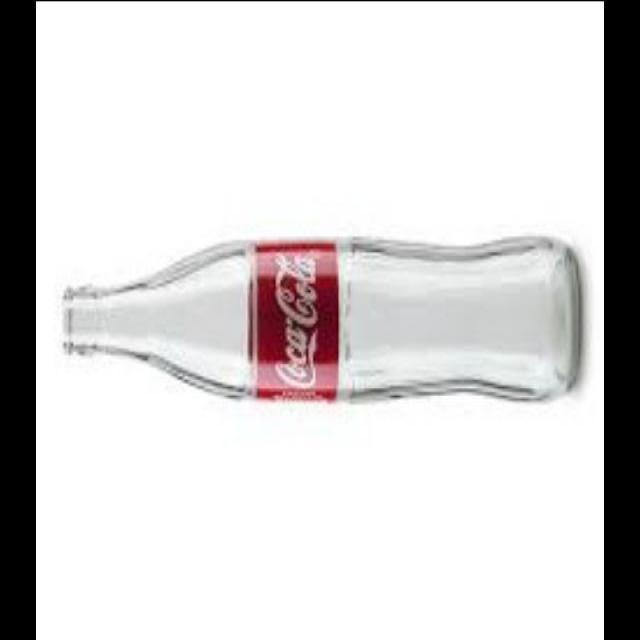Glass: (60, 226, 584, 414)
